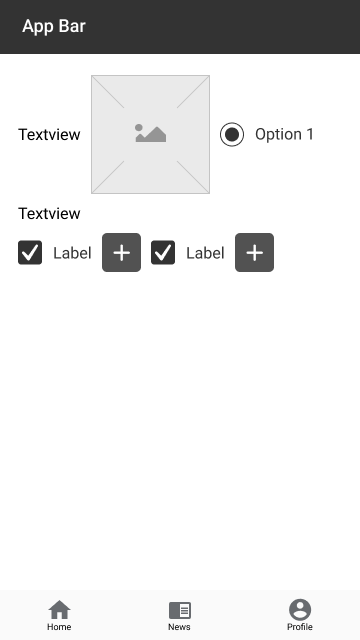buttonIcon: (101, 231, 143, 273), (234, 231, 275, 274)
checkBox: (149, 238, 226, 268), (16, 238, 93, 267)
imageView: (88, 73, 213, 197)
navigationButton: (1, 592, 360, 639)
radioButton: (217, 121, 315, 149)
textView: (16, 205, 84, 222), (17, 126, 79, 144)
toolbar: (3, 1, 360, 56)
